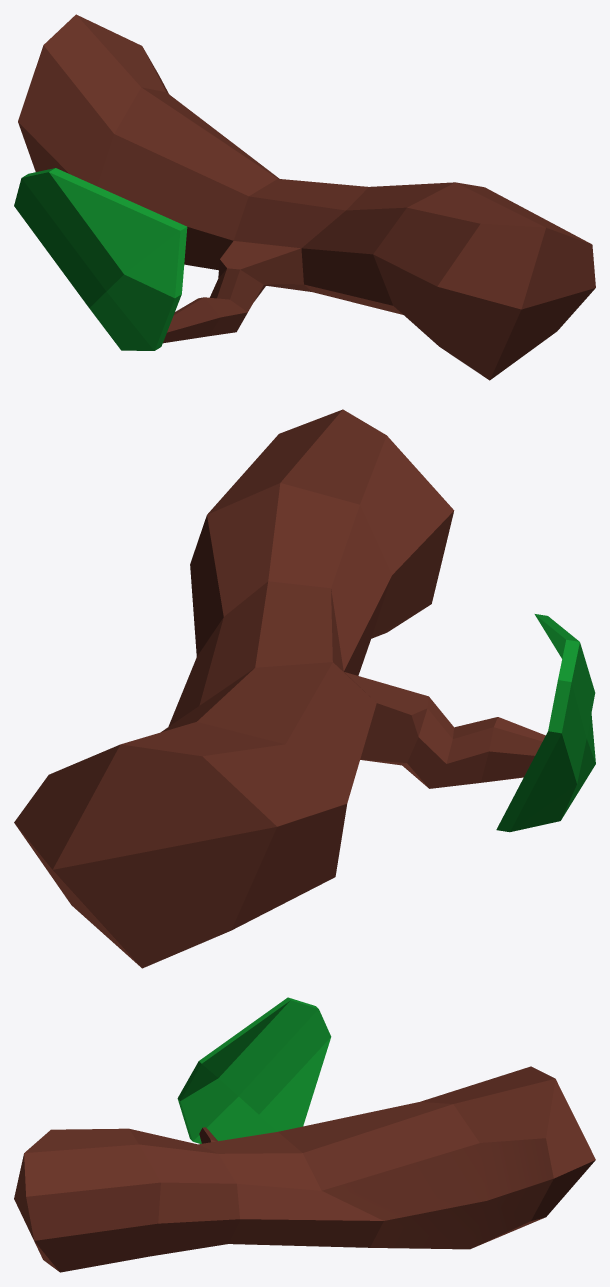
The model's file is Small_Branch.fbx.
3 renders of one model, top to bottom at view 1: azimuth 30°, elevation 25°; view 2: azimuth 150°, elevation 25°; view 3: azimuth 270°, elevation 25°, orthographic. The views are drawn at different scales.
Parts seen in each view (by area): view 1: polySurface37; view 2: polySurface37; view 3: polySurface37.
Part boxes in pixels (<box>): polySurface37: <box>14,14,595,380</box>; polySurface37: <box>14,409,595,968</box>; polySurface37: <box>14,997,595,1272</box>.
Bounding box in the file's own units: 4.08 × 1.84 × 6.1.
